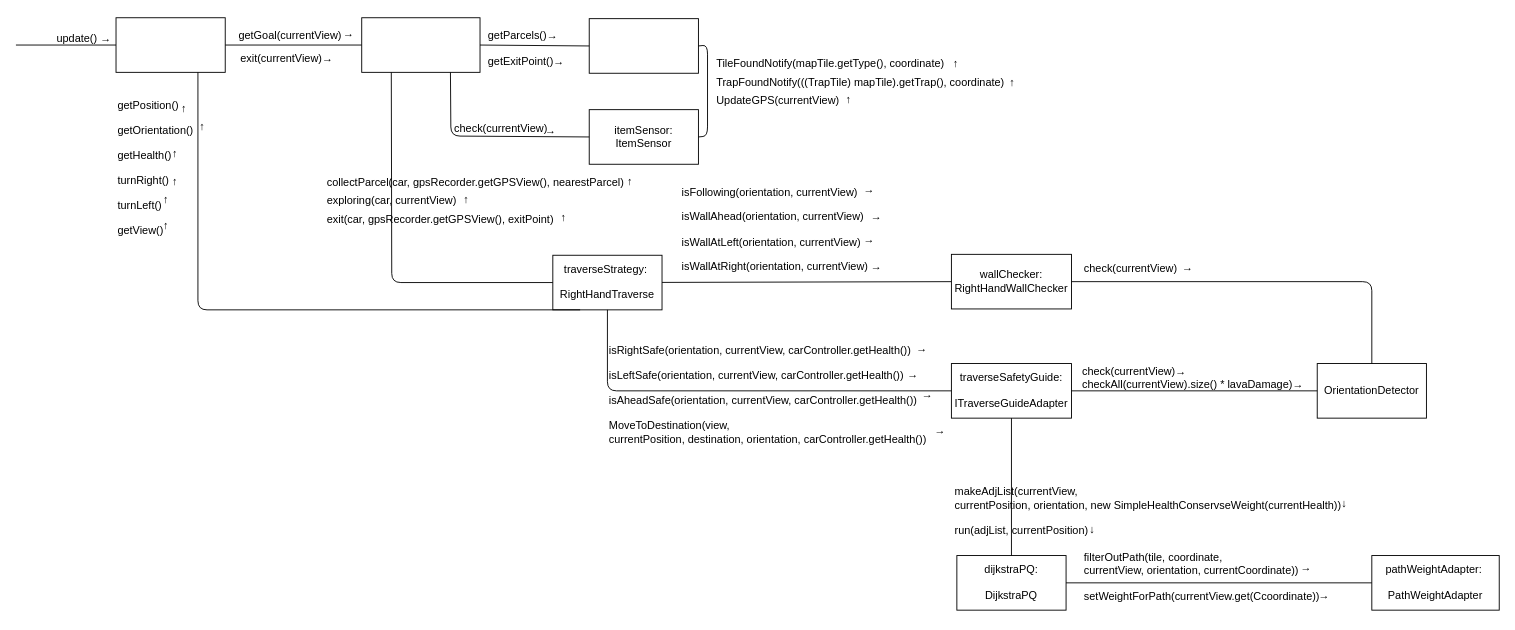
Image size: 1515x630. Some labels were removed from this diagram. Here are the shapes that lost their labels. From the top down, the centre of each, then its label:
At pixel 170 44: ": myAutoController".
At pixel 420 44: "traverseGoalStrategy : PacelsFinderStrategy".
At pixel 643 45: "gpsRecorder: GPSRecorder".
